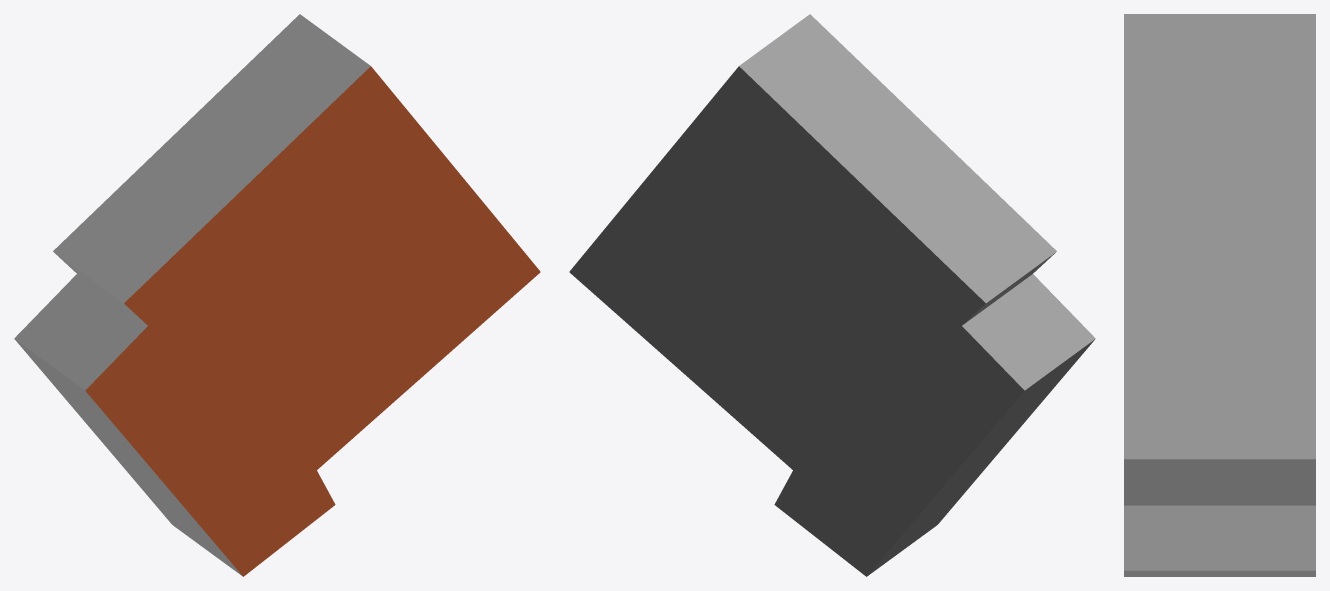
Rendered from construction_0537_assumed_A_Casa_h6m.obj.
3 renders of one model, left to right at view 1: azimuth 30°, elevation 25°; view 2: azimuth 150°, elevation 25°; view 3: azimuth 270°, elevation 25°, orthographic. The views are drawn at different scales.
Parts seen in each view (by area): view 1: construction_0537_assumed_A_Casa; view 2: construction_0537_assumed_A_Casa; view 3: construction_0537_assumed_A_Casa.
Boxes of the visible parts, x1,y1,x2,y2 form: construction_0537_assumed_A_Casa: (14,14,540,576); construction_0537_assumed_A_Casa: (569,14,1095,576); construction_0537_assumed_A_Casa: (1124,14,1315,576).
Bounding box in the file's own units: 22.19 × 22.32 × 6.
